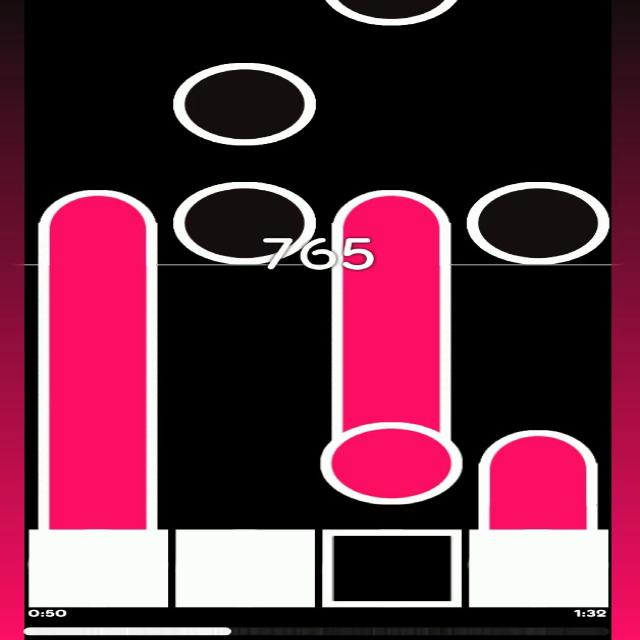end_hold: (473, 422, 604, 472), (35, 179, 162, 228), (335, 181, 448, 227)
note: (468, 178, 608, 266), (170, 62, 316, 146), (172, 181, 317, 264), (323, 0, 460, 26)
start_hold: (322, 401, 463, 504)
